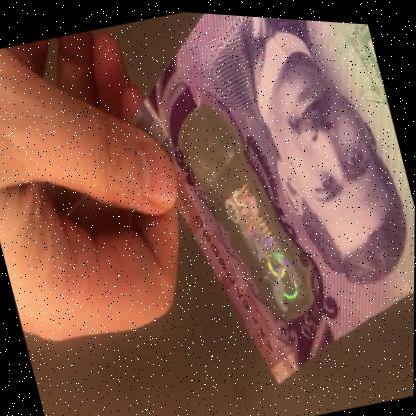50F: (193, 109, 314, 323)
